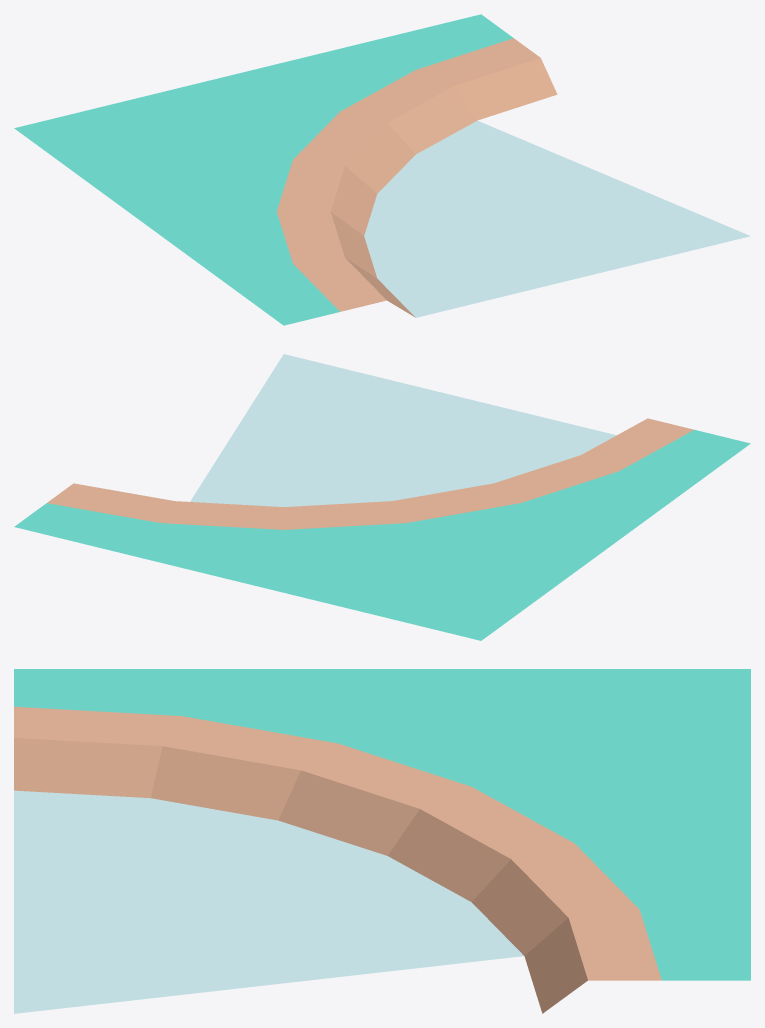
The model's file is ground_riverCorner.glb.
The picture shows the model from 3 angles, top to bottom: view 1: azimuth 30°, elevation 25°; view 2: azimuth 150°, elevation 25°; view 3: azimuth 270°, elevation 25°; orthographic projection. The views are drawn at different scales.
Parts seen in each view (by area): view 1: ground_riverCorner; view 2: ground_riverCorner; view 3: ground_riverCorner.
Part boxes in pixels (x1,y1,x2,y2): ground_riverCorner: (14,14,750,325); ground_riverCorner: (14,354,750,640); ground_riverCorner: (14,669,750,1013).
Bounding box in the file's own units: 1 × 0.0501 × 1.
